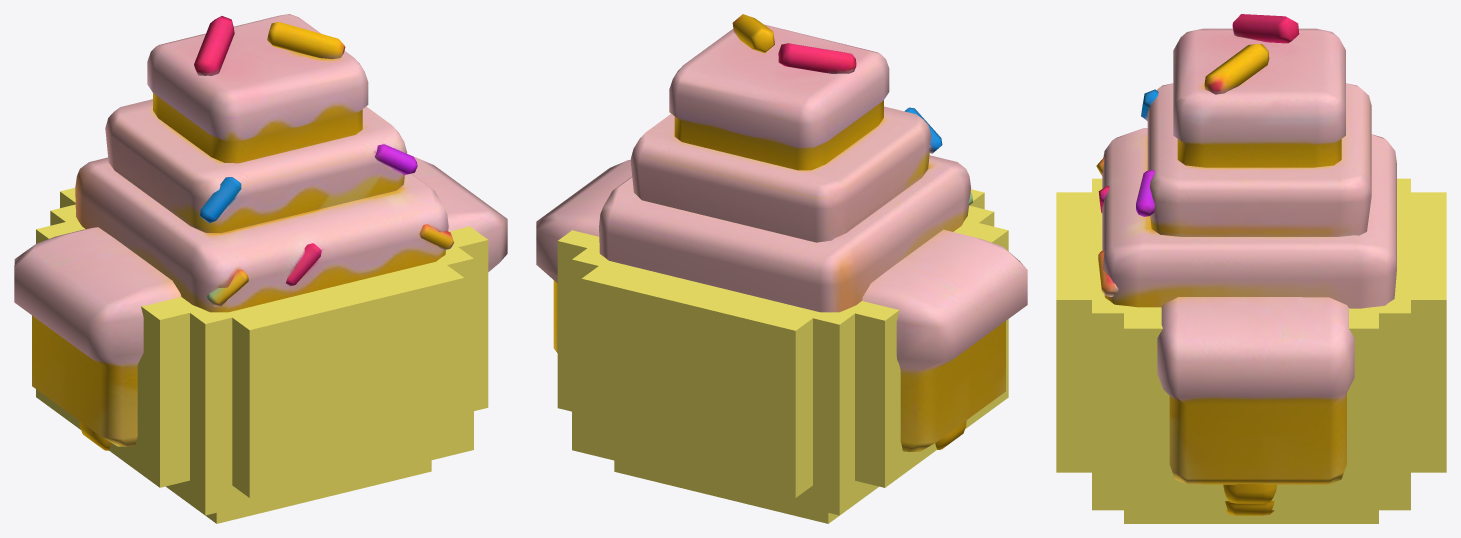
File: Trung banh trung.fbx
3 views of the same model, side by side, from view 1: azimuth 30°, elevation 25°; view 2: azimuth 150°, elevation 25°; view 3: azimuth 270°, elevation 25° (orthographic). The views are drawn at different scales.
Parts seen in each view (by area): view 1: Trung_Banh_Trung; view 2: Trung_Banh_Trung; view 3: Trung_Banh_Trung.
Boxes of the visible parts, x1,y1,x2,y2 form: Trung_Banh_Trung: (14,14,507,523); Trung_Banh_Trung: (536,14,1027,523); Trung_Banh_Trung: (1056,14,1446,523).
Bounding box in the file's own units: 4.39 × 4.28 × 3.43.
